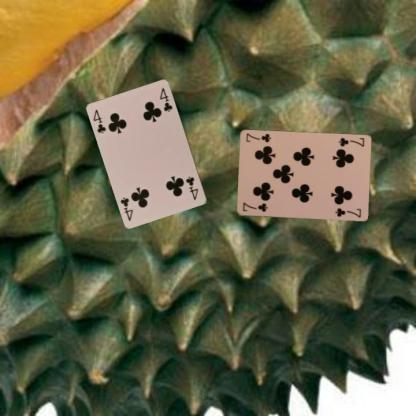4c: (90, 107, 107, 135), (183, 174, 199, 202)
7c: (336, 135, 365, 149), (240, 200, 269, 213)
